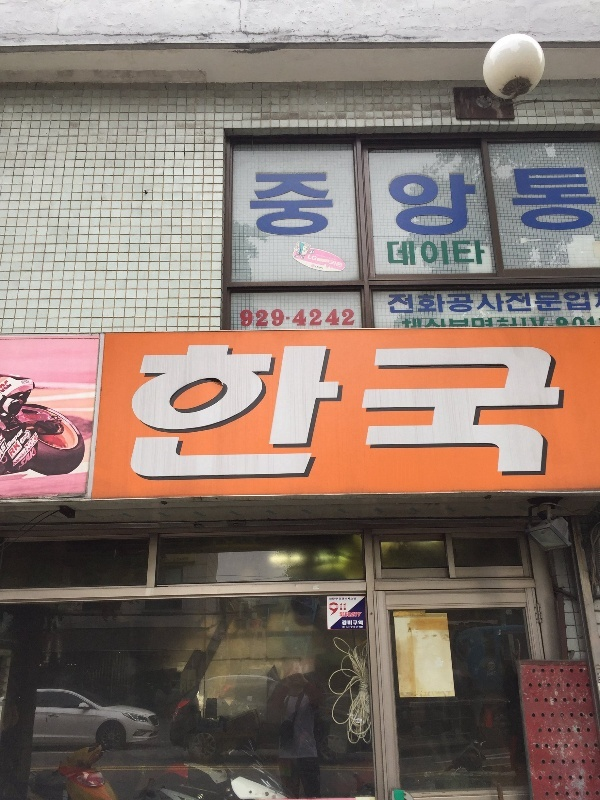text: (145, 334, 160, 483), (161, 334, 176, 483), (177, 334, 192, 483), (193, 334, 208, 483), (209, 334, 224, 483), (225, 334, 240, 483), (241, 334, 256, 483), (257, 334, 272, 483), (273, 334, 288, 483), (289, 334, 304, 483), (305, 334, 320, 483), (321, 334, 336, 483), (337, 334, 352, 483), (353, 334, 368, 483), (369, 334, 384, 483), (385, 334, 400, 483), (401, 334, 416, 483), (417, 334, 432, 483), (433, 334, 448, 483), (449, 334, 464, 483), (465, 334, 480, 483), (481, 334, 496, 483), (497, 334, 512, 483), (513, 334, 528, 483), (529, 334, 544, 483), (545, 334, 560, 483), (561, 334, 569, 483), (257, 167, 272, 241), (273, 167, 288, 241), (289, 167, 304, 241), (305, 167, 320, 241), (321, 167, 336, 241), (513, 167, 528, 233), (529, 167, 544, 233), (545, 167, 560, 233), (561, 167, 576, 233), (577, 167, 592, 233), (401, 172, 416, 236), (417, 172, 432, 236), (433, 172, 448, 236), (449, 172, 464, 236), (386, 172, 400, 236), (465, 172, 479, 236), (138, 334, 144, 483), (401, 237, 416, 269), (417, 237, 432, 269), (433, 237, 448, 269), (449, 237, 464, 269), (465, 237, 480, 269), (386, 237, 400, 269), (401, 290, 416, 317), (417, 290, 432, 317), (433, 290, 448, 317), (449, 290, 464, 317), (465, 290, 480, 317), (481, 290, 496, 317), (513, 288, 528, 315), (529, 288, 544, 315), (545, 288, 560, 315), (561, 288, 576, 315), (577, 288, 592, 315), (593, 167, 599, 233), (387, 290, 400, 317), (241, 308, 256, 329), (257, 308, 272, 329), (273, 308, 288, 329), (289, 308, 304, 329), (305, 308, 320, 329), (321, 308, 336, 329), (337, 308, 352, 329), (252, 167, 256, 241), (20, 447, 32, 470), (1, 379, 16, 396), (497, 290, 506, 317), (337, 167, 340, 241), (504, 288, 512, 315), (7, 428, 16, 452), (401, 316, 416, 330), (417, 316, 432, 330), (433, 316, 448, 330), (449, 316, 464, 330), (465, 316, 480, 330), (481, 316, 496, 330), (497, 316, 512, 330), (513, 316, 528, 330), (529, 316, 544, 330), (545, 316, 560, 330), (561, 316, 576, 330), (577, 316, 592, 330), (509, 167, 512, 233), (481, 237, 487, 269), (17, 450, 27, 467), (1, 442, 16, 453), (1, 449, 16, 460), (17, 428, 23, 452), (337, 602, 346, 617), (25, 435, 32, 453), (9, 441, 16, 458), (21, 433, 32, 443), (329, 602, 336, 617), (308, 254, 320, 262), (33, 435, 38, 453), (340, 612, 352, 618), (487, 670, 496, 678), (17, 441, 21, 458), (353, 620, 364, 626), (353, 612, 363, 618), (342, 620, 352, 626), (337, 259, 343, 269), (488, 663, 496, 670), (21, 380, 32, 385), (331, 259, 336, 269), (33, 447, 35, 470), (337, 598, 352, 601), (353, 308, 355, 329), (593, 316, 596, 330), (14, 450, 16, 467), (353, 626, 364, 629), (342, 626, 352, 629), (329, 598, 336, 601), (353, 598, 357, 601), (316, 266, 320, 269), (321, 267, 324, 270), (319, 267, 320, 270)
